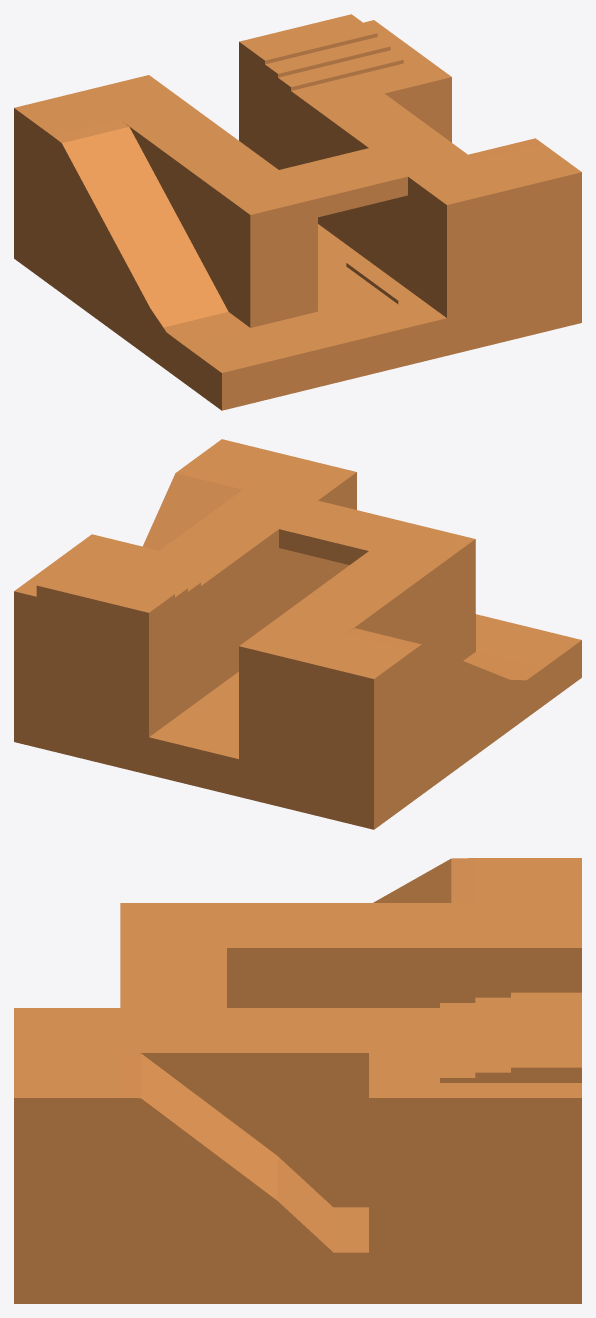
The model's file is cubmap.glb.
The picture shows the model from 3 angles, top to bottom: view 1: azimuth 30°, elevation 25°; view 2: azimuth 150°, elevation 25°; view 3: azimuth 270°, elevation 25°; orthographic projection. The views are drawn at different scales.
Parts seen in each view (by area): view 1: Cube; view 2: Cube; view 3: Cube.
Boxes of the visible parts, x1,y1,x2,y2 form: Cube: (14,14,581,410); Cube: (14,439,581,829); Cube: (14,858,581,1303).
Bounding box in the file's own units: 20 × 8.6 × 20.
